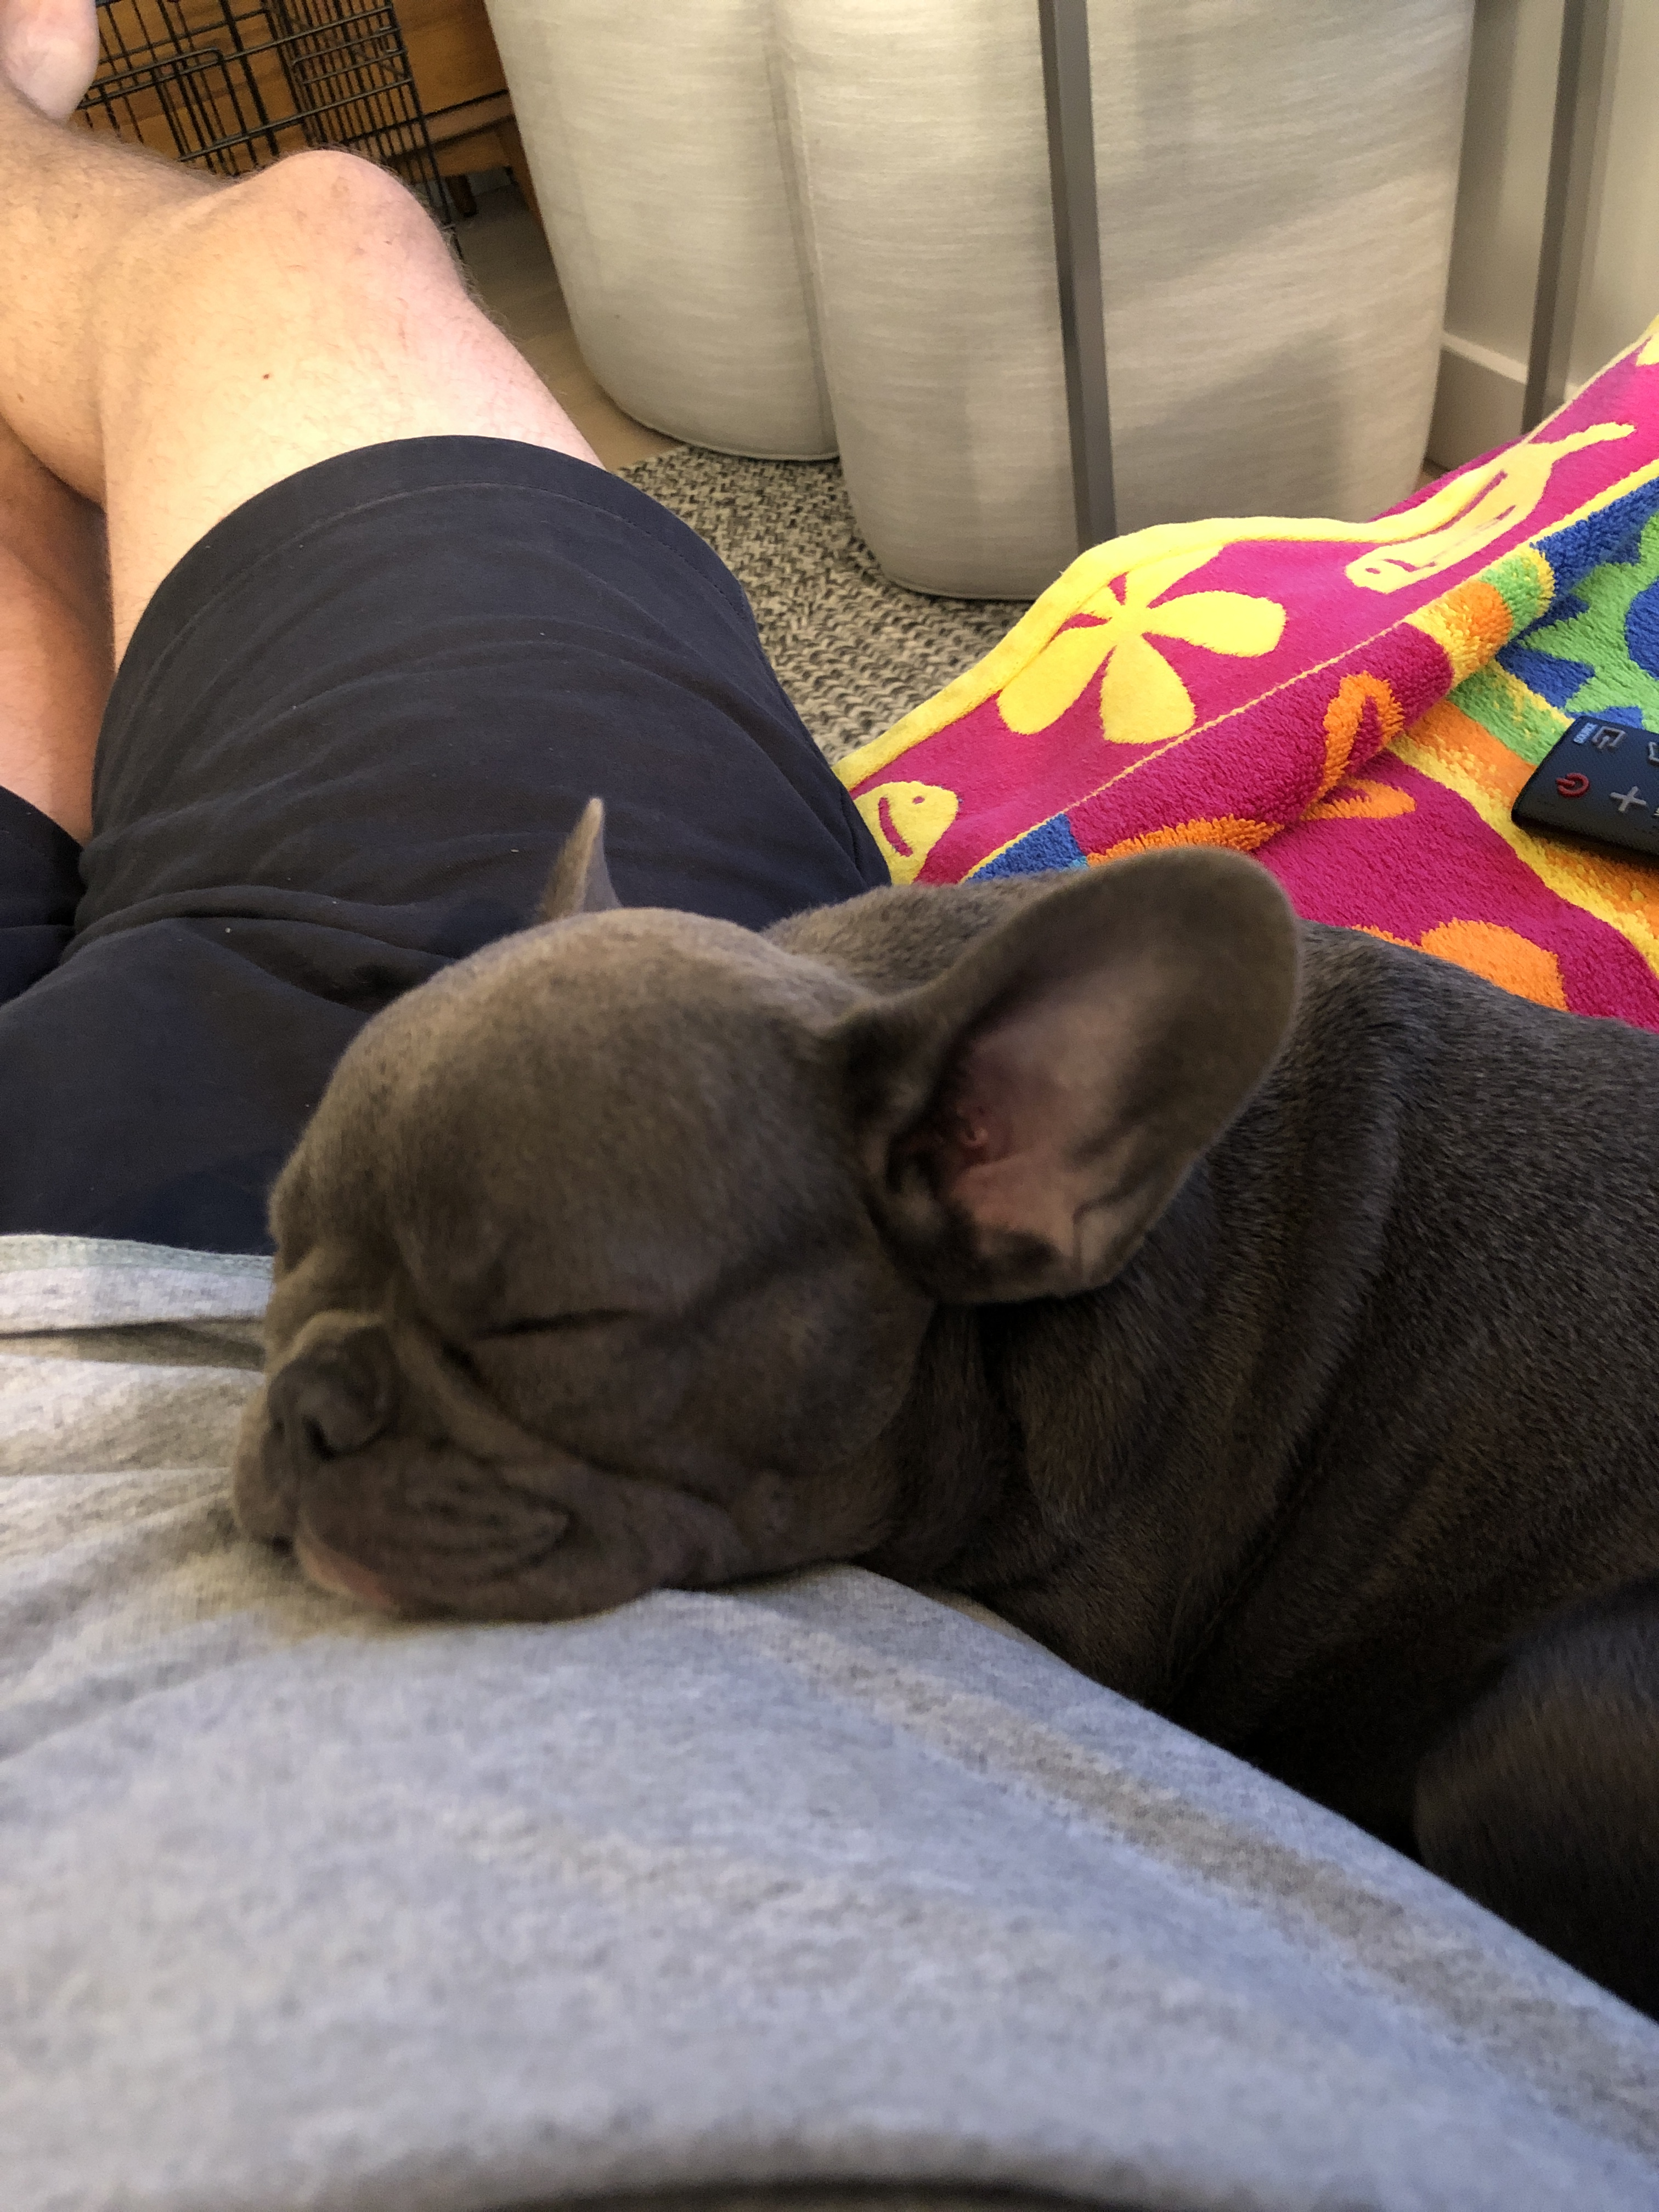lucy: (223, 792, 1654, 2003)
